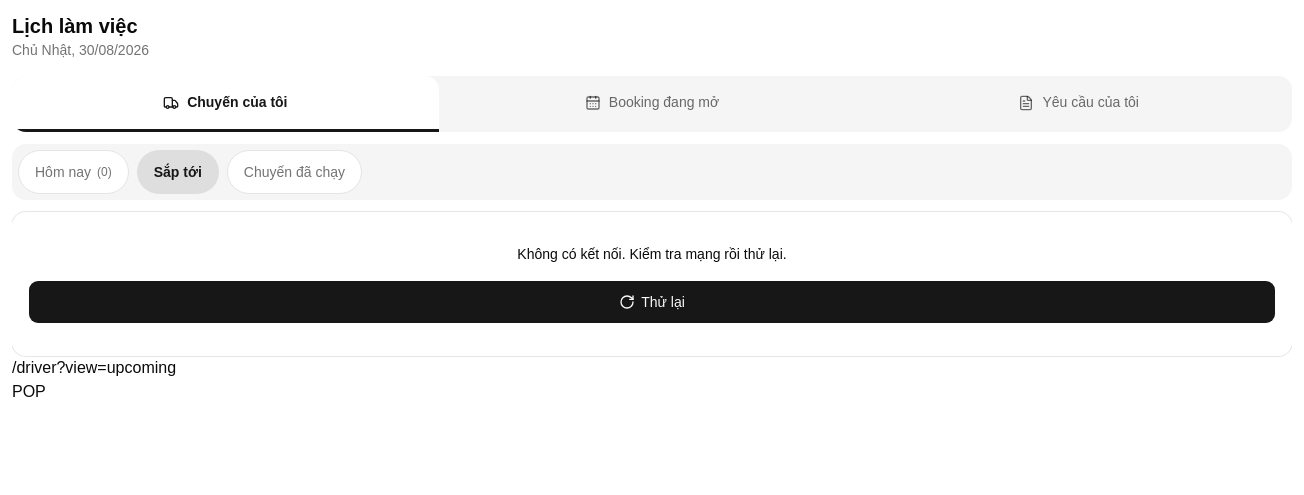
Test: ★ the work schedule — sắp tới và đã chạy › shows a driver-worded failure with a retry that brings the cards back
Expected: the message reads "Không có kết nối. Kiểm tra mạng rồi thử lại.", [517,246,787,262]
Click the button "Thử lại". click: (652, 302)
box: [28,280,1276,324]
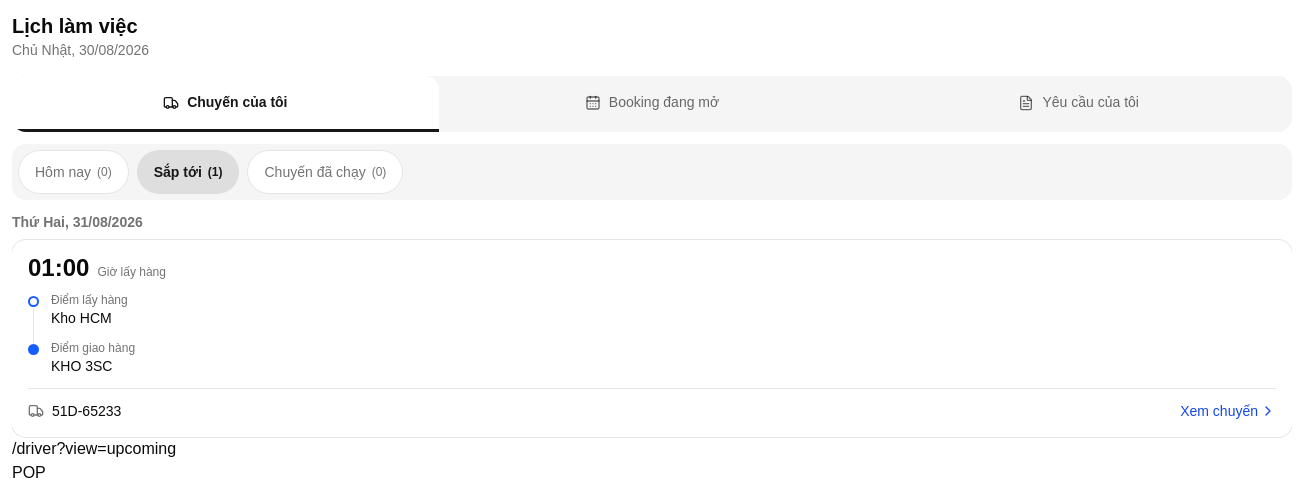
Expected: the message "Không có kết nối. Kiểm tra mạng rồi thử lại." is gone
